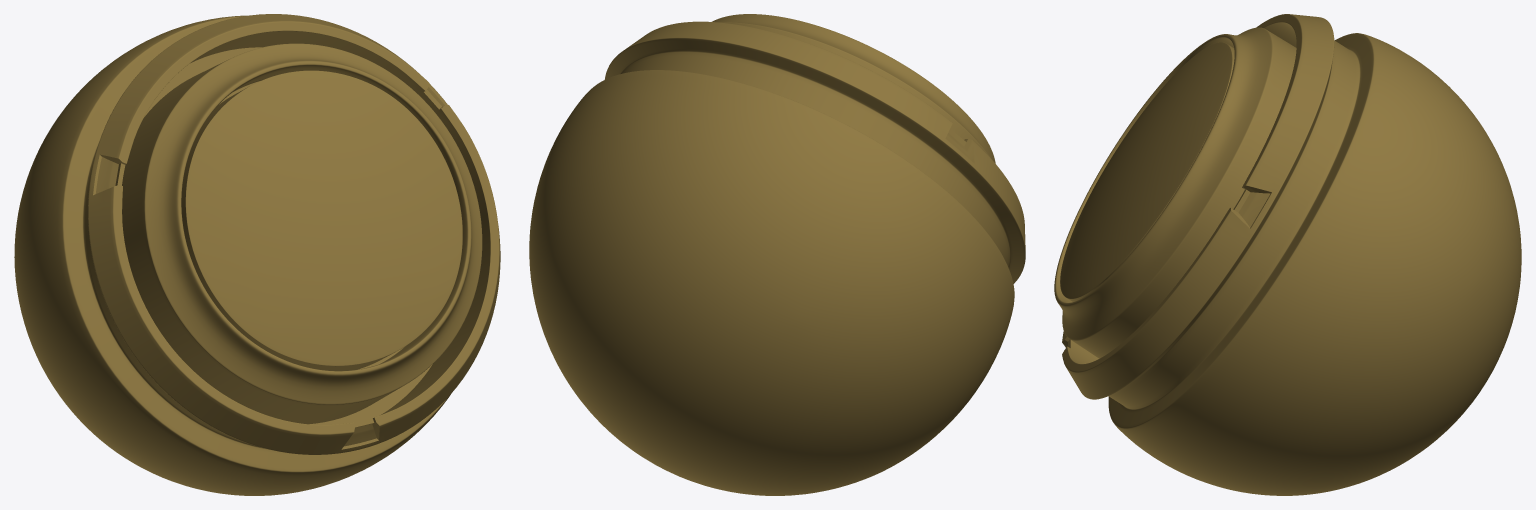
The model's file is gold_au_2k.glb.
The picture shows the model from 3 angles, left to right: view 1: azimuth 30°, elevation 25°; view 2: azimuth 150°, elevation 25°; view 3: azimuth 270°, elevation 25°; orthographic projection. The views are drawn at different scales.
Visible parts, largest first — view 1: head_Meet_MAT_v9_01_Head_0; view 2: head_Meet_MAT_v9_01_Head_0; view 3: head_Meet_MAT_v9_01_Head_0.
Boxes of the visible parts, bbox=[...] form: head_Meet_MAT_v9_01_Head_0: bbox=[14, 14, 500, 495]; head_Meet_MAT_v9_01_Head_0: bbox=[529, 14, 1025, 495]; head_Meet_MAT_v9_01_Head_0: bbox=[1054, 14, 1521, 495].
Size of the model in its own units: 7.48 by 7.55 by 7.33.
1 material, 1 textured.
